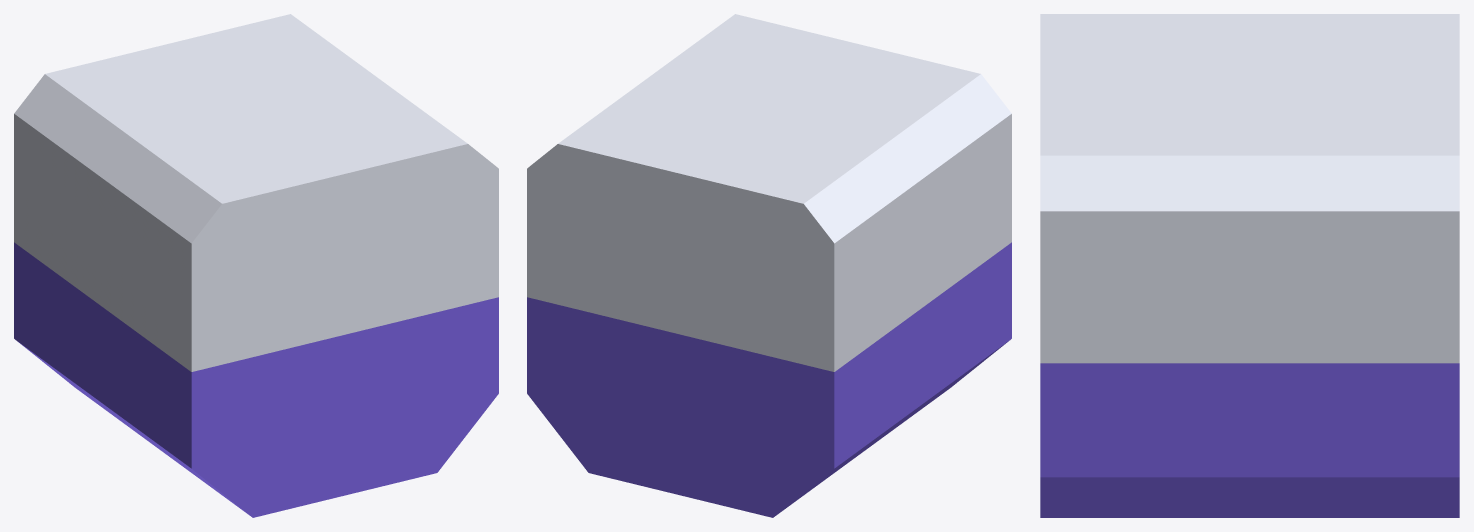
The model's file is SnakeModuleProto.fbx.
The picture shows the model from 3 angles, left to right: view 1: azimuth 30°, elevation 25°; view 2: azimuth 150°, elevation 25°; view 3: azimuth 270°, elevation 25°; orthographic projection. The views are drawn at different scales.
Visible parts, largest first — view 1: hull_body; view 2: hull_body; view 3: hull_body.
Part boxes in pixels (x1,y1,x2,y2): hull_body: [14, 14, 498, 517]; hull_body: [527, 14, 1011, 517]; hull_body: [1040, 14, 1459, 517].
Size of the model in its own units: 10 by 10 by 10.
